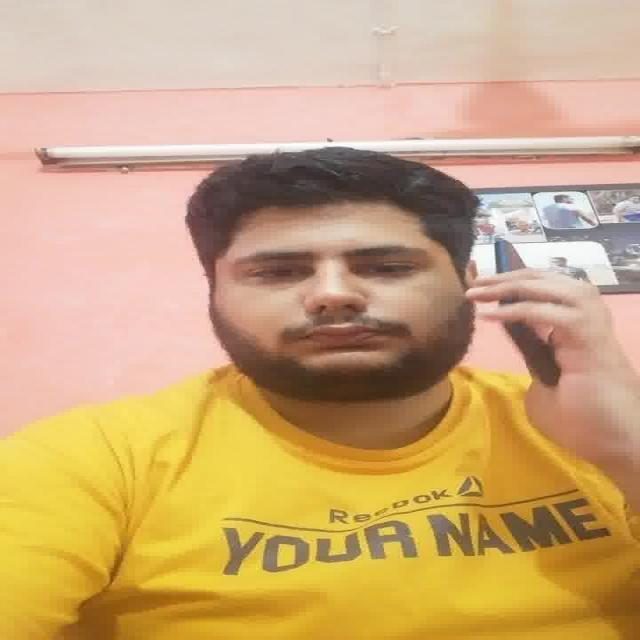Phone: (492, 234, 566, 390)
